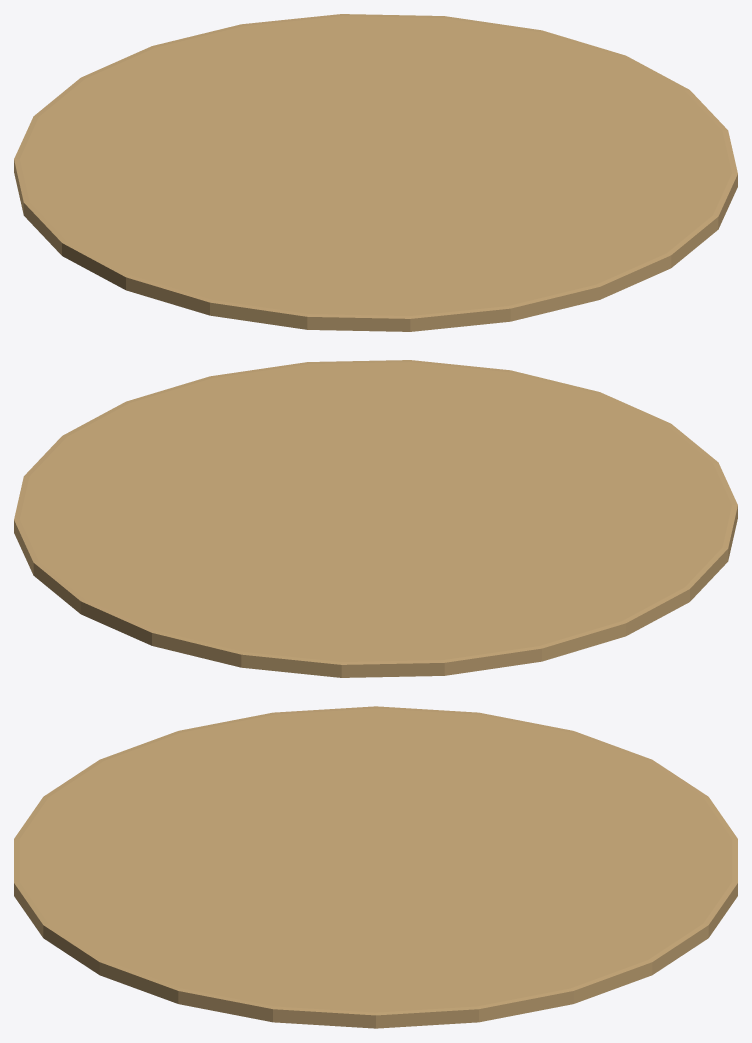
File: well_ground.fbx
3 views of the same model, one above another, from view 1: azimuth 30°, elevation 25°; view 2: azimuth 150°, elevation 25°; view 3: azimuth 270°, elevation 25° (orthographic).
Visible parts, largest first — view 1: Cylinder.003; view 2: Cylinder.003; view 3: Cylinder.003.
Part boxes in pixels (bbox=[...]): Cylinder.003: bbox=[14, 14, 737, 331]; Cylinder.003: bbox=[14, 360, 737, 677]; Cylinder.003: bbox=[14, 706, 737, 1028].
Bounding box in the file's own units: 1208 × 25.24 × 1196.
